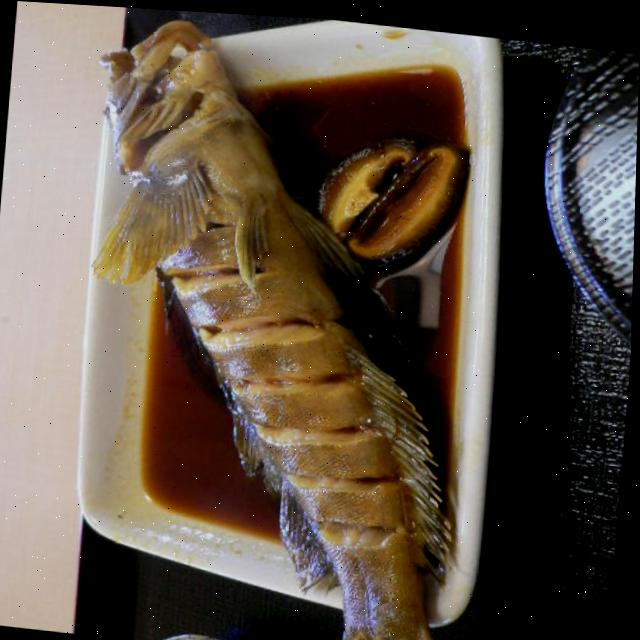熟制海鲜: (13, 1, 557, 640)
